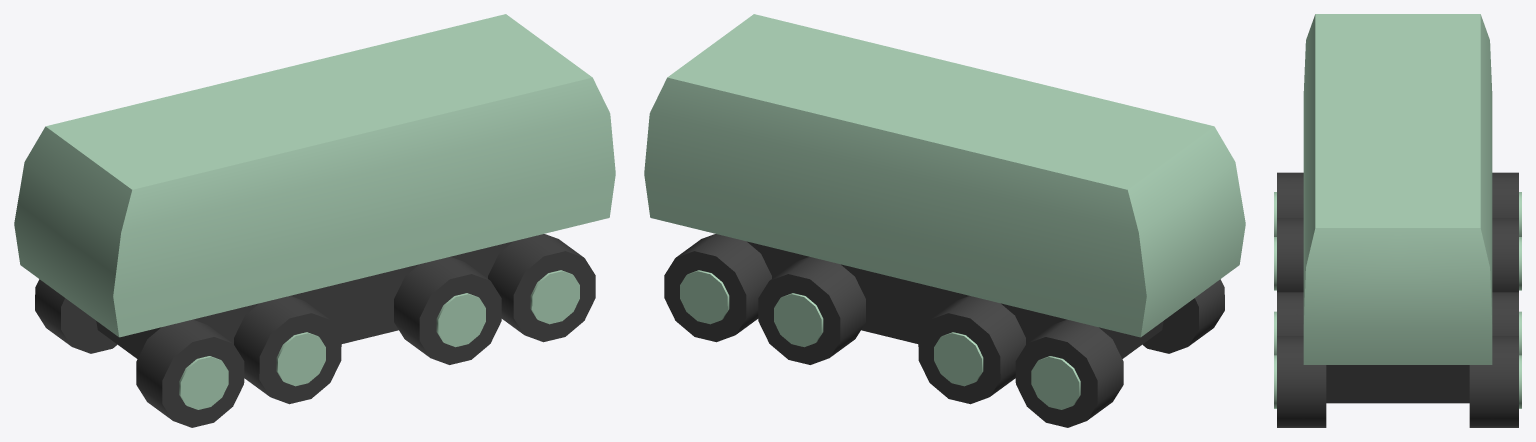
File: NST_TrainToy.fbx
3 views of the same model, side by side, from view 1: azimuth 30°, elevation 25°; view 2: azimuth 150°, elevation 25°; view 3: azimuth 270°, elevation 25° (orthographic). The views are drawn at different scales.
Visible parts, largest first — view 1: NST_TrainToy; view 2: NST_TrainToy; view 3: NST_TrainToy.
Boxes of the visible parts, box(x1,y1,x2,y2) form: NST_TrainToy: box(14, 14, 615, 427); NST_TrainToy: box(644, 14, 1245, 427); NST_TrainToy: box(1274, 14, 1521, 427).
Size of the model in its own units: 23.26 by 10.31 by 10.42.
